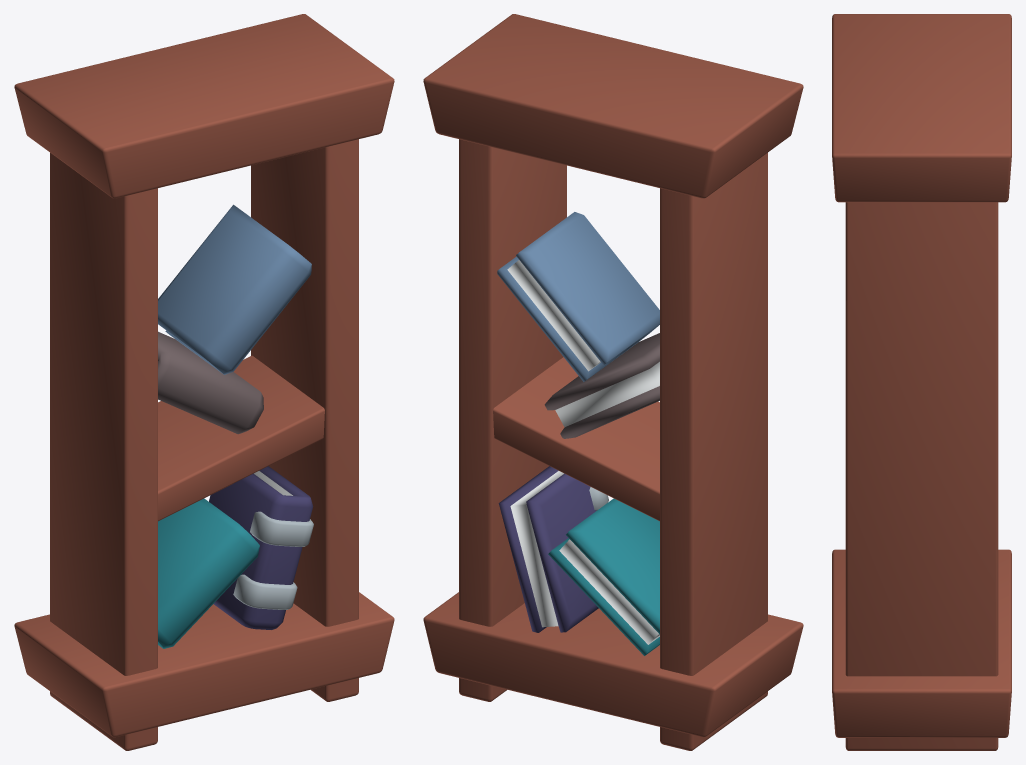
File: kaykit-bookcasefilled-broken.glb
3 views of the same model, side by side, from view 1: azimuth 30°, elevation 25°; view 2: azimuth 150°, elevation 25°; view 3: azimuth 270°, elevation 25° (orthographic).
Parts seen in each view (by area): view 1: bookcaseFilled_broken; view 2: bookcaseFilled_broken; view 3: bookcaseFilled_broken.
Boxes of the visible parts, x1,y1,x2,y2 form: bookcaseFilled_broken: [14, 14, 394, 750]; bookcaseFilled_broken: [423, 14, 803, 750]; bookcaseFilled_broken: [832, 14, 1011, 750].
Bounding box in the file's own units: 0.9947 × 2 × 0.5334.
4 materials, 4 textured.
